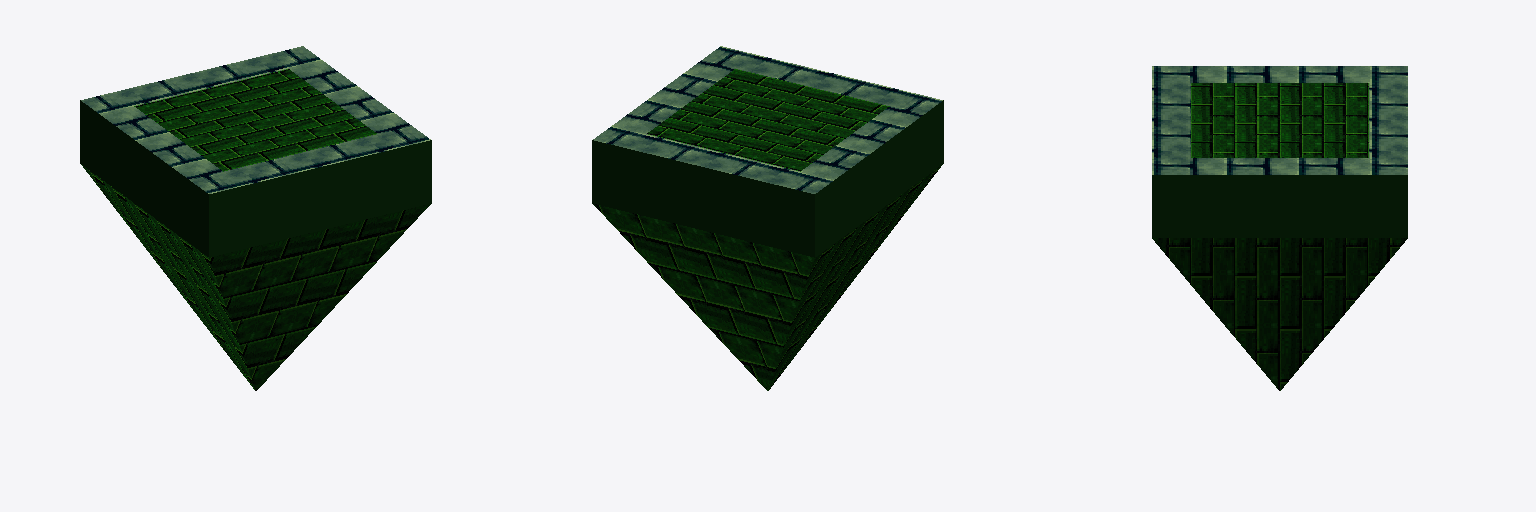
3 views of the same model, side by side, from view 1: azimuth 30°, elevation 25°; view 2: azimuth 150°, elevation 25°; view 3: azimuth 270°, elevation 25° (orthographic).
Visible parts, largest first — view 1: Mesh1 Component_5_1 Model; view 2: Mesh1 Component_5_1 Model; view 3: Mesh1 Component_5_1 Model.
Boxes of the visible parts, x1=… form: Mesh1 Component_5_1 Model: x1=80, y1=46, x2=431, y2=390; Mesh1 Component_5_1 Model: x1=592, y1=46, x2=943, y2=390; Mesh1 Component_5_1 Model: x1=1152, y1=66, x2=1407, y2=390.
Size of the model in its own units: 510 by 594 by 510.
3 materials, 2 textured.